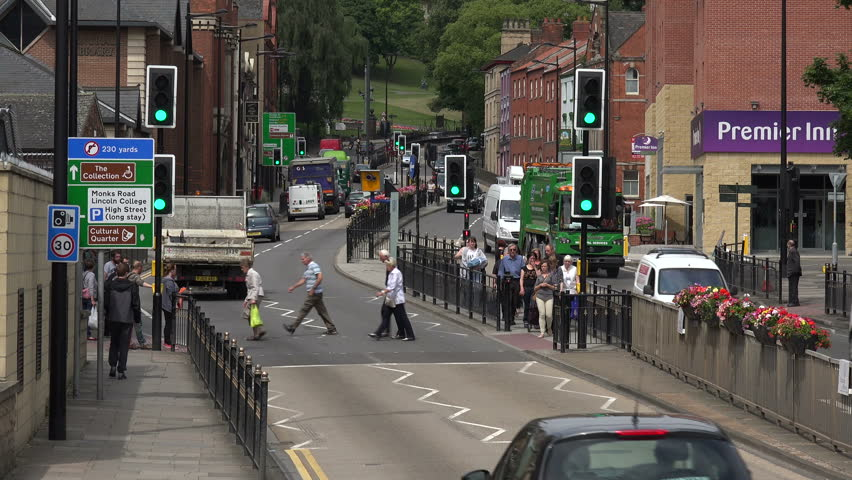go: (147, 64, 176, 128), (572, 156, 601, 218), (575, 69, 603, 130), (152, 155, 174, 216), (444, 155, 466, 199), (273, 148, 281, 166), (296, 140, 304, 157), (398, 135, 406, 152)
